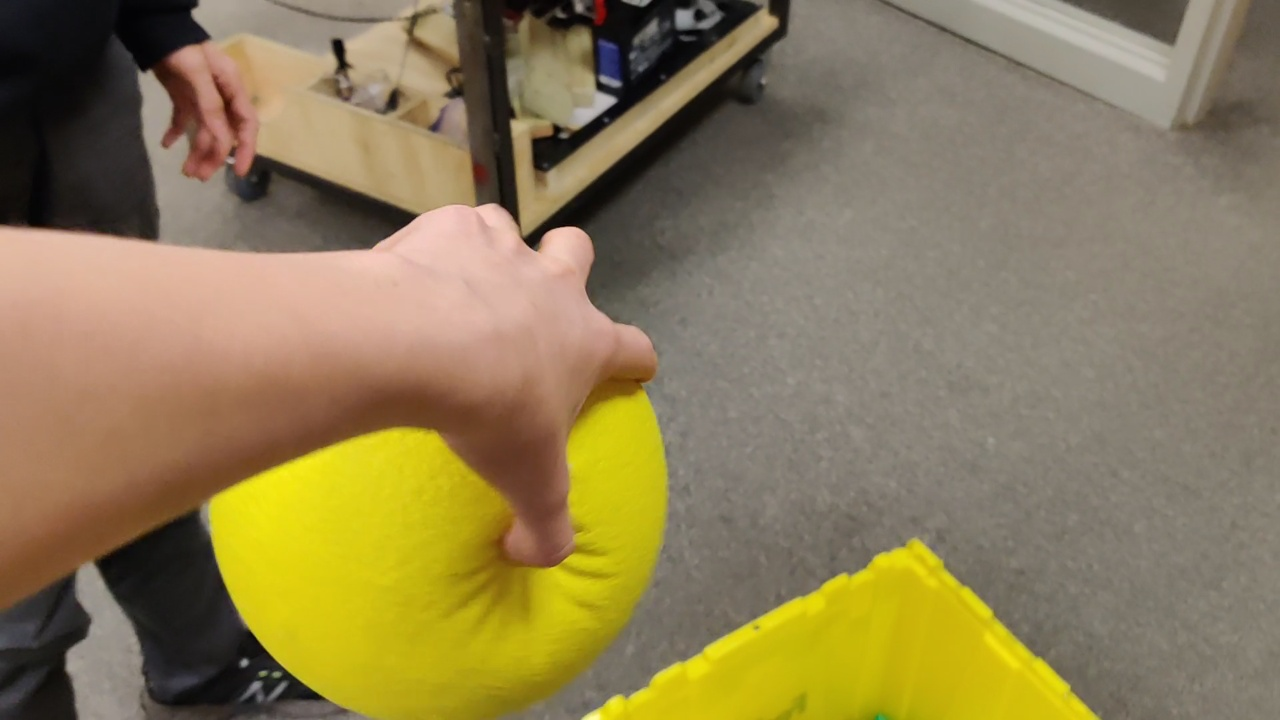Ball: (210, 506, 668, 686)
